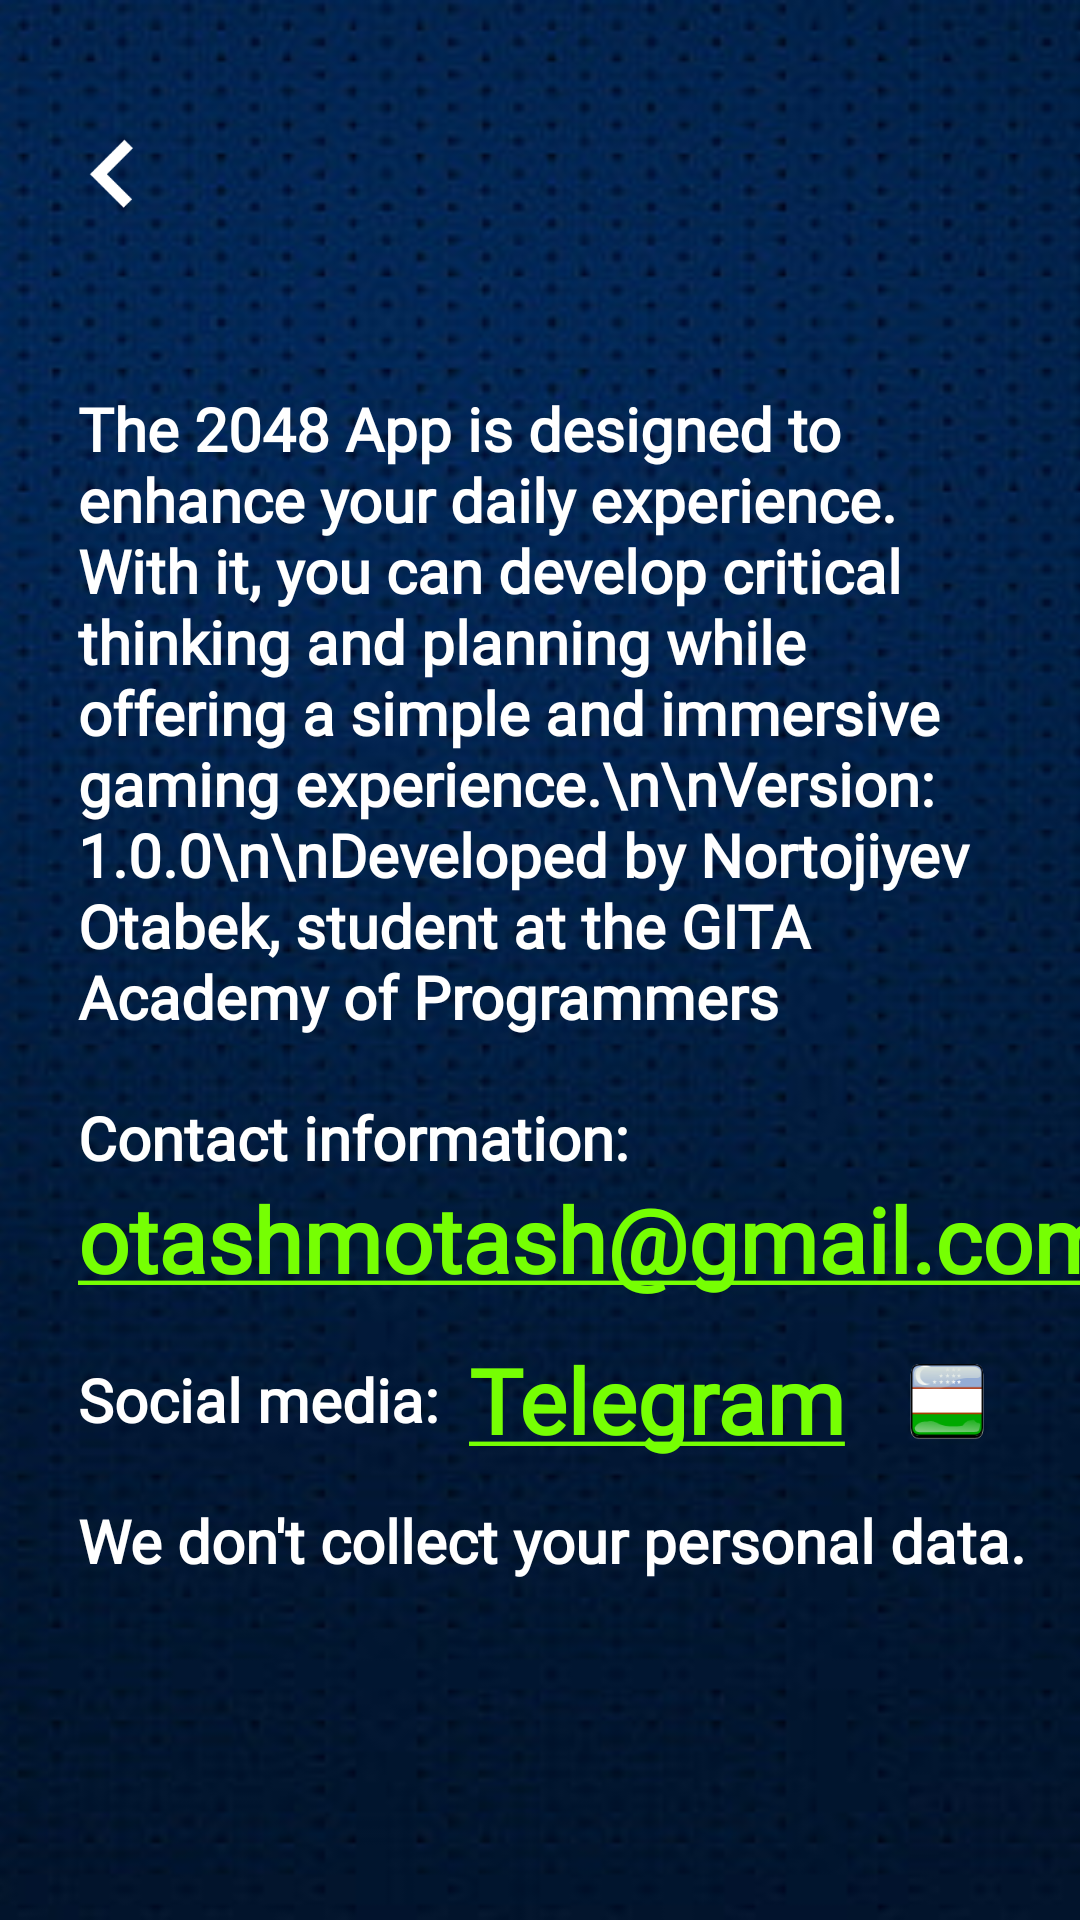

Icon bounding boxes for this 1080×1920 phone screenshot, format Rect(x1, y1, x2, y2):
flag: Rect(910, 1364, 984, 1439)
